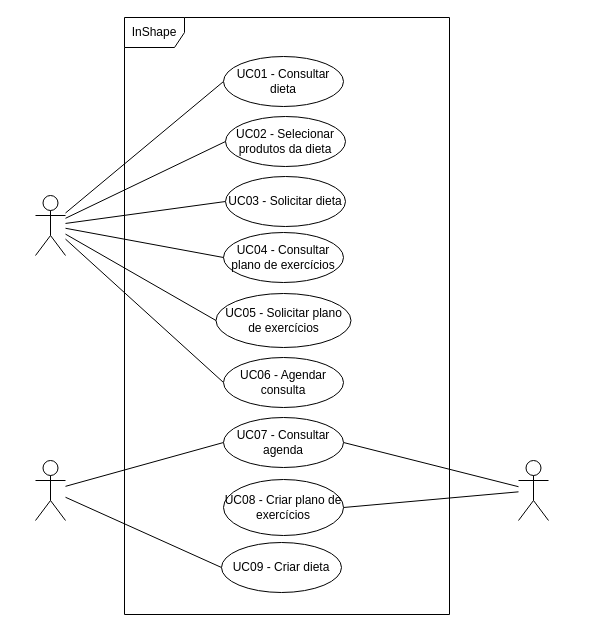
Image size: 594x632. Some labels were removed from this diagram. Here are the shapes that lost their labels. From the top down, the centre of each, then its label:
At pixel 50 225: "Aluno".
At pixel 50 490: "Nutricionista".
At pixel 533 490: "Personal Trainer".
